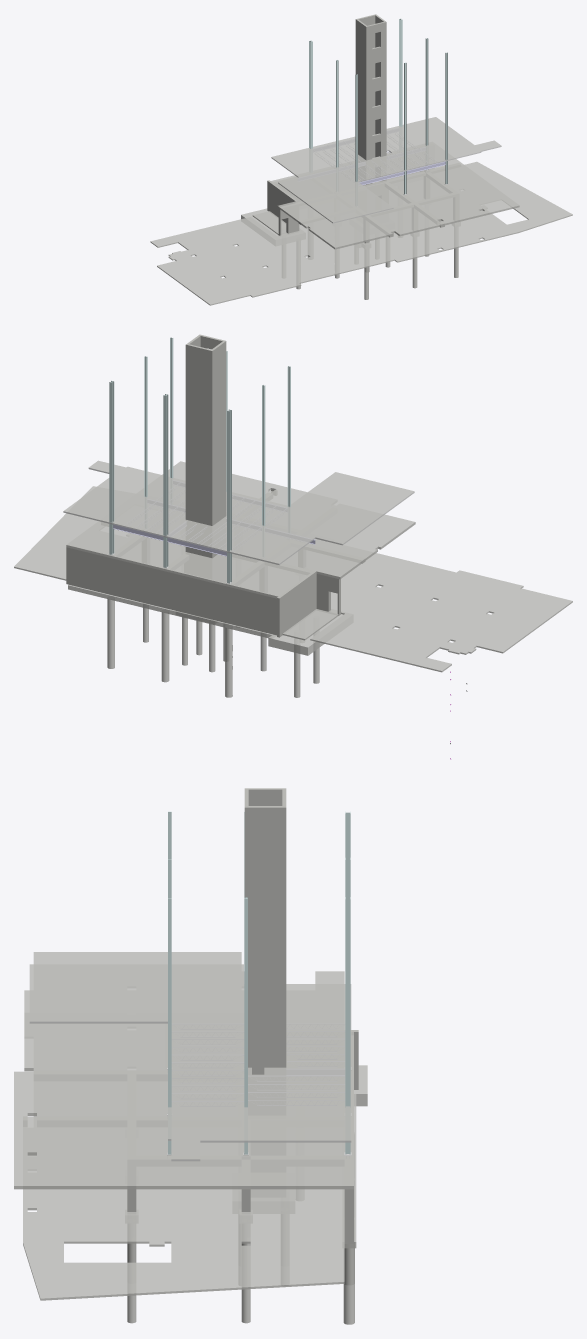
Rendered from ISSUE-004-context.glb.
3 renders of one model, top to bottom at view 1: azimuth 30°, elevation 25°; view 2: azimuth 150°, elevation 25°; view 3: azimuth 270°, elevation 25°, orthographic. The views are drawn at different scales.
Parts seen in each view (by area): view 1: 4738, 4006 (×2), 3844, 3045, 3046, 3044, 3061, 3043, 3284, 3296, 3288, 4837 (+2 smaller); view 2: 4738, 4006 (×2), 3844, 3928, 3043, 3046, 3061, 3929, 3288, 3285, 3284, 4837 (+10 smaller); view 3: 4006 (×2), 4738, 3844, 3044, 3043, 3288, 3304, 3296, 3910.
Boxes of the visible parts, left/top/right/bottom form: 4738: left=150, top=161, right=572, bottom=305; 4006 (×2): left=271, top=117, right=501, bottom=223; 3844: left=271, top=152, right=519, bottom=249; 3045: left=365, top=22, right=384, bottom=184; 3046: left=356, top=19, right=366, bottom=159; 3044: left=375, top=15, right=386, bottom=180; 3061: left=267, top=180, right=299, bottom=231; 3043: left=355, top=14, right=376, bottom=157; 3284: left=309, top=40, right=312, bottom=148; 3296: left=425, top=38, right=428, bottom=169; 3288: left=399, top=18, right=402, bottom=126; 4837: left=252, top=211, right=286, bottom=234; 4738: left=14, top=486, right=572, bottom=672; 4006 (×2): left=63, top=460, right=414, bottom=564; 3844: left=66, top=461, right=415, bottom=598; 3928: left=66, top=547, right=276, bottom=635; 3043: left=185, top=343, right=213, bottom=558; 3046: left=212, top=341, right=224, bottom=556; 3061: left=277, top=571, right=316, bottom=637; 3929: left=68, top=585, right=272, bottom=637; 3288: left=109, top=380, right=114, bottom=554; 3285: left=163, top=394, right=168, bottom=567; 3284: left=227, top=409, right=231, bottom=583; 4837: left=282, top=609, right=338, bottom=640; 4006 (×2): left=29, top=964, right=351, bottom=1161; 4738: left=23, top=952, right=344, bottom=1300; 3844: left=14, top=1012, right=353, bottom=1189; 3044: left=244, top=806, right=282, bottom=1074; 3043: left=282, top=788, right=286, bottom=1067; 3288: left=345, top=897, right=350, bottom=1154; 3304: left=168, top=897, right=171, bottom=1154; 3296: left=244, top=897, right=247, bottom=1154; 3910: left=343, top=1248, right=354, bottom=1324.
Size of the model in its own units: 63.31 by 35 by 37.24.
